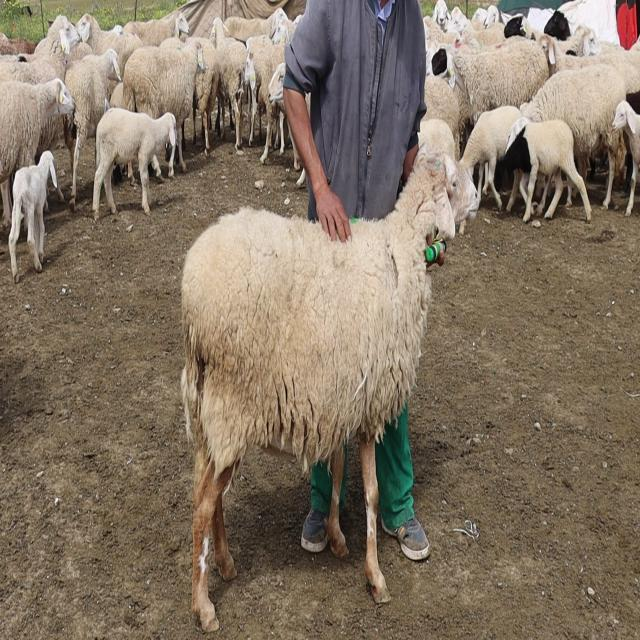Score_3: (181, 152, 479, 631)
